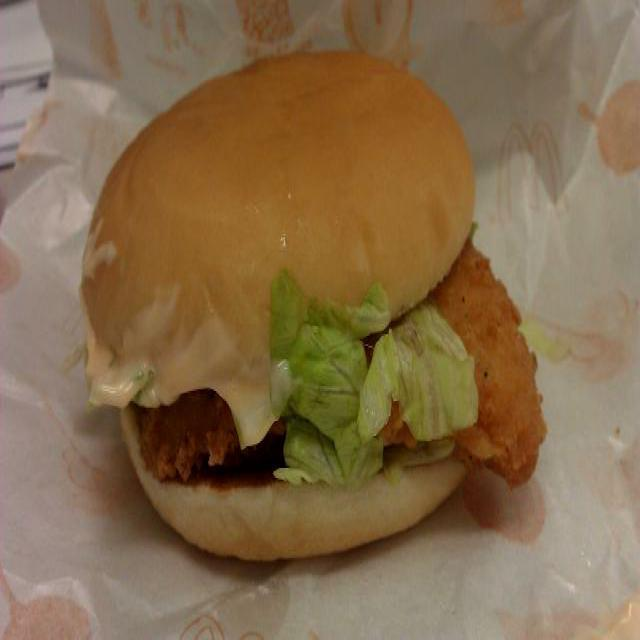hamburger: (78, 40, 550, 560)
